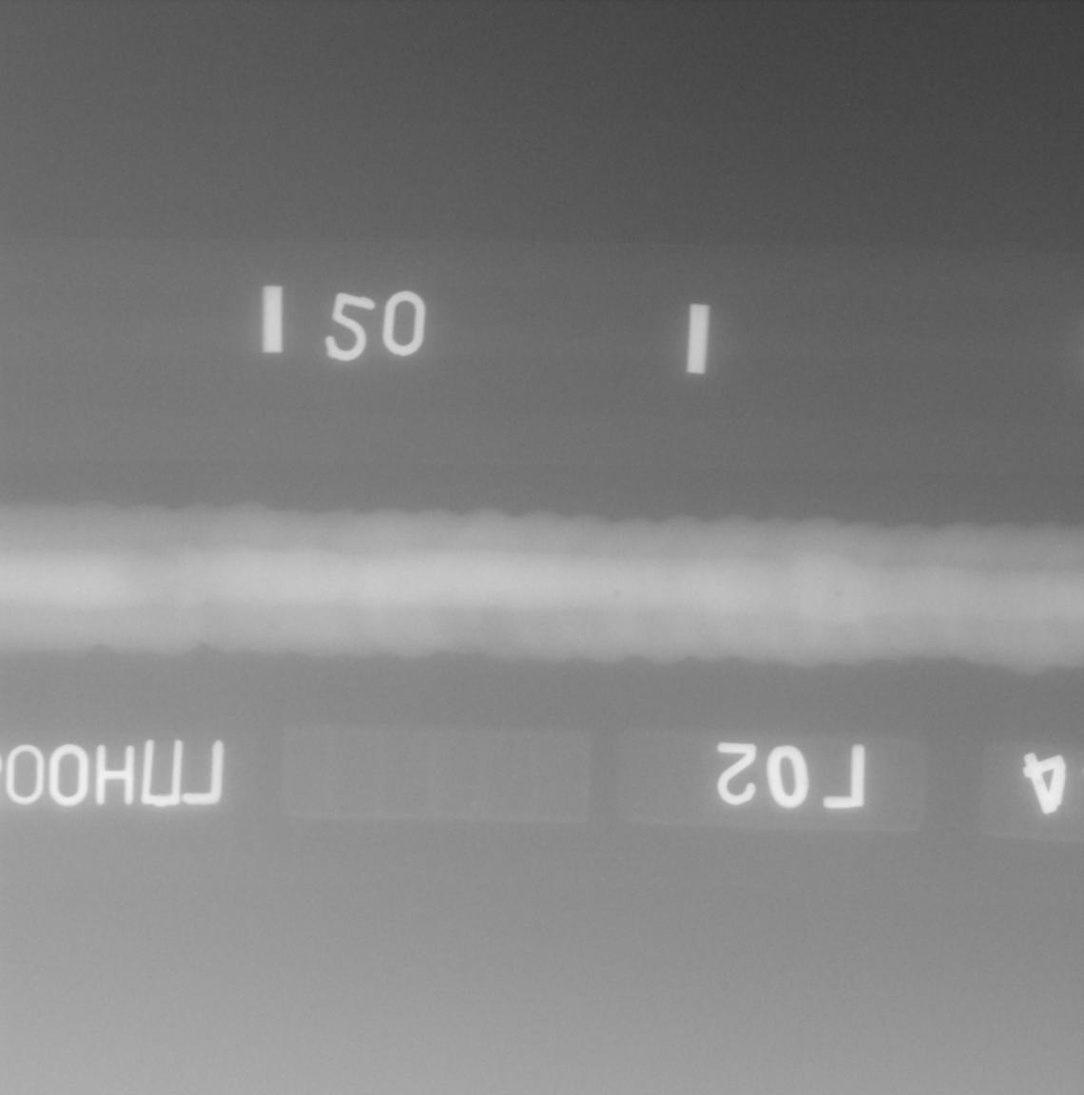Pore/Porosity: (836, 591, 842, 597), (350, 592, 356, 597), (614, 591, 620, 596)
